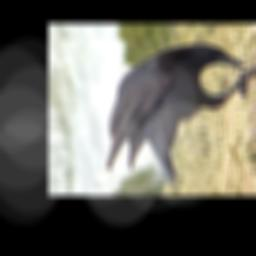Crow: (102, 44, 256, 188)
